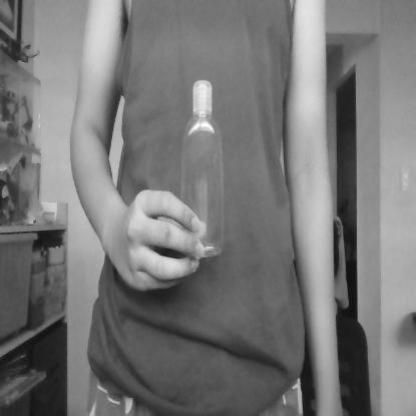Plastic Bottle: (173, 72, 229, 262)
